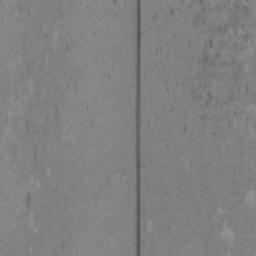Scratches: (134, 0, 142, 253)
